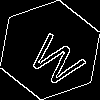W: (25, 25, 93, 91)
